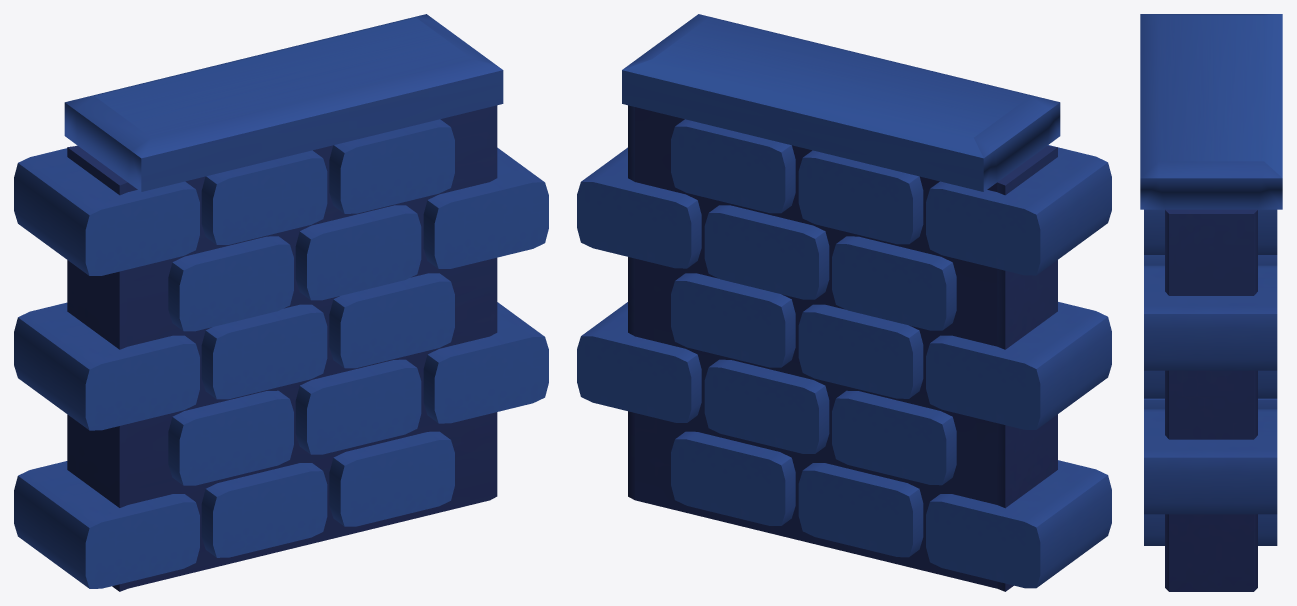
Rendered from SM_Wall.fbx.
3 views of the same model, side by side, from view 1: azimuth 30°, elevation 25°; view 2: azimuth 150°, elevation 25°; view 3: azimuth 270°, elevation 25° (orthographic). The views are drawn at different scales.
Visible parts, largest first — view 1: polySurface244; view 2: polySurface244; view 3: polySurface244.
Boxes of the visible parts, x1=… form: polySurface244: x1=14, y1=14, x2=548, y2=591; polySurface244: x1=577, y1=14, x2=1111, y2=591; polySurface244: x1=1140, y1=14, x2=1282, y2=591.
Bounding box in the file's own units: 123 × 113 × 35.13.
